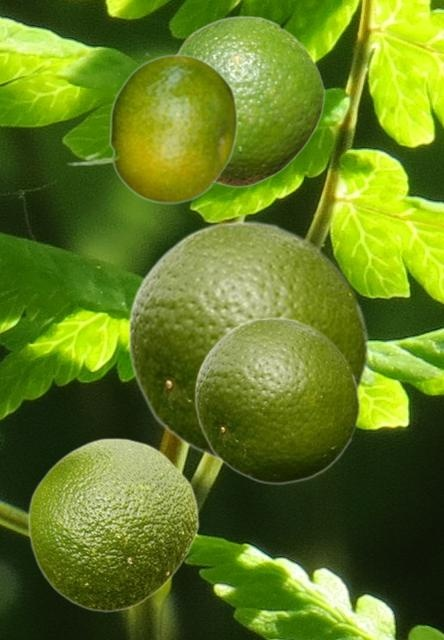calamansi: (127, 218, 369, 464), (27, 437, 198, 612), (194, 315, 360, 484), (66, 53, 237, 203), (176, 15, 324, 187)
